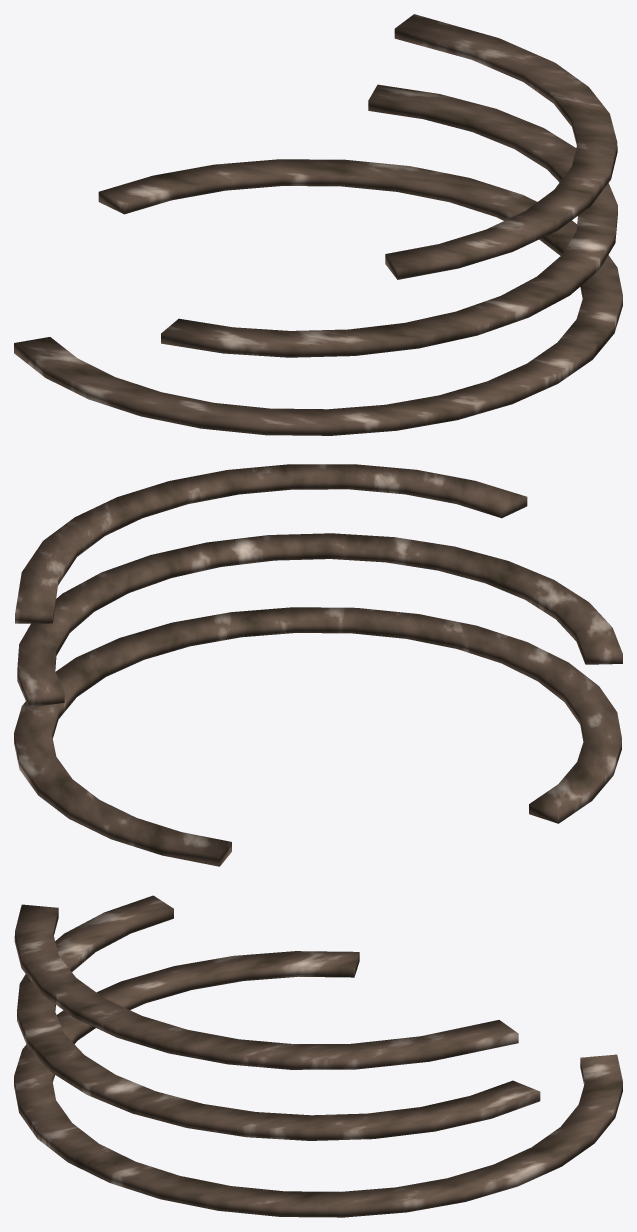
Rendered from ColliseumRails.obj.
3 renders of one model, top to bottom at view 1: azimuth 30°, elevation 25°; view 2: azimuth 150°, elevation 25°; view 3: azimuth 270°, elevation 25°, orthographic. The views are drawn at different scales.
Visible parts, largest first — view 1: Cube.006_Cube.009; view 2: Cube.006_Cube.009; view 3: Cube.006_Cube.009.
Boxes of the visible parts, <box> form: Cube.006_Cube.009: <box>14,14,622,435</box>; Cube.006_Cube.009: <box>14,464,622,866</box>; Cube.006_Cube.009: <box>14,895,622,1217</box>.
Size of the model in its own units: 84.5 by 23.81 by 84.75.
Materials: 1 (1 with a texture image).
